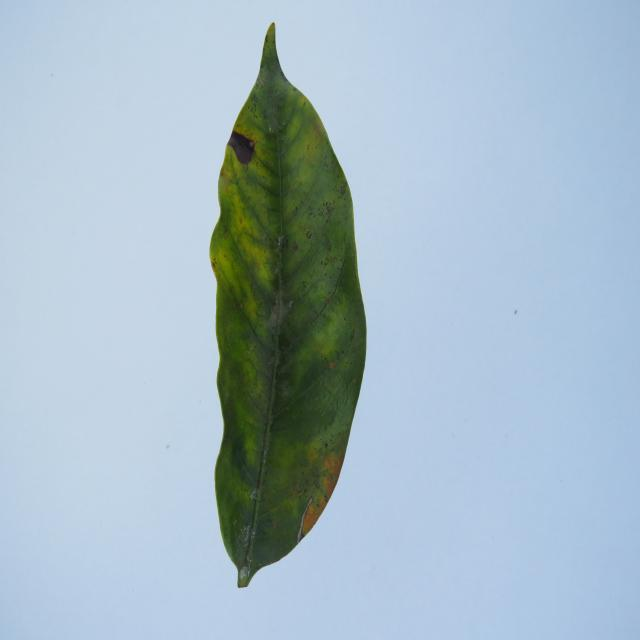DeficienciaNutricional-Magnesio: (210, 23, 366, 587)
